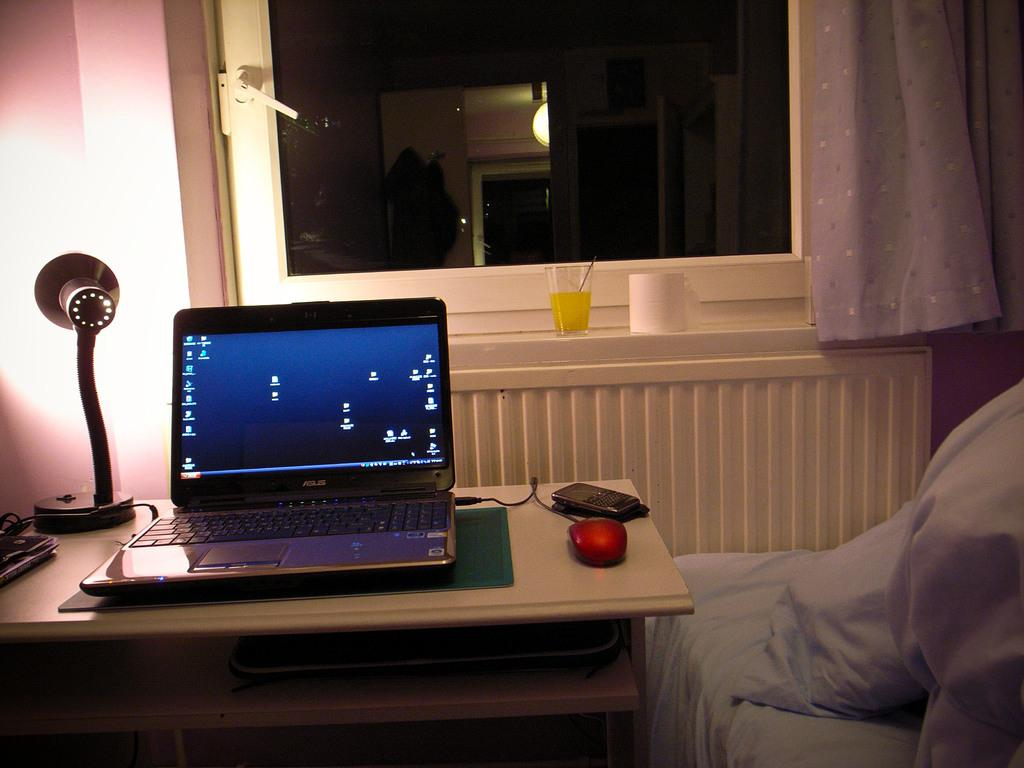Laptop: (95, 290, 455, 604)
